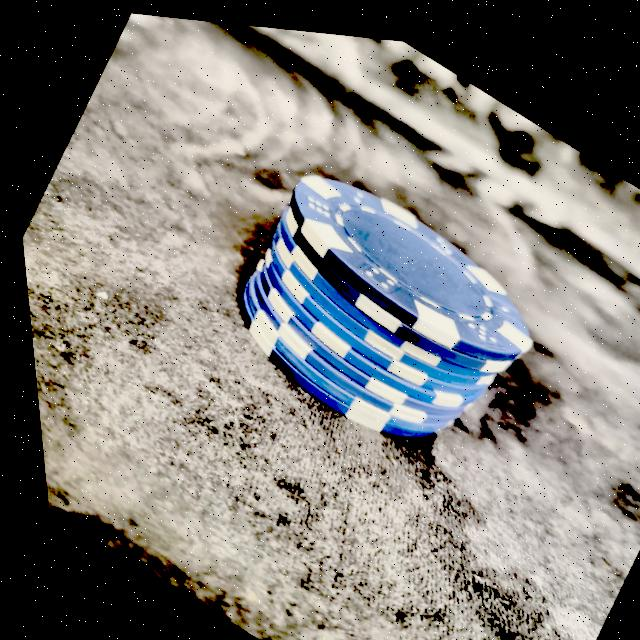Chip: (184, 119, 573, 493)
